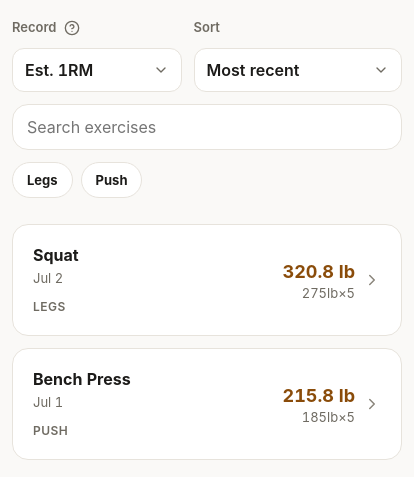
PRsTab tags, filtering, and row navigation › shows a distinct empty message for a filter matching nothing vs. never having any PRs
This screenshot has width=414, height=477.
Expected: the button "Push" is shown, [81, 162, 142, 198]
In the search field labelled "Search exercises": (207, 127) [12, 104, 402, 150], type "deadlift"
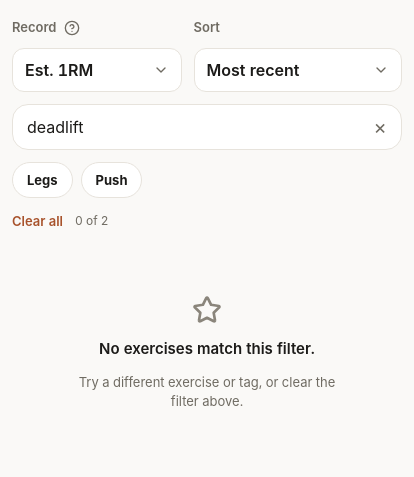
Result: the text "No exercises match this filter." is shown at [99, 338, 315, 360]
